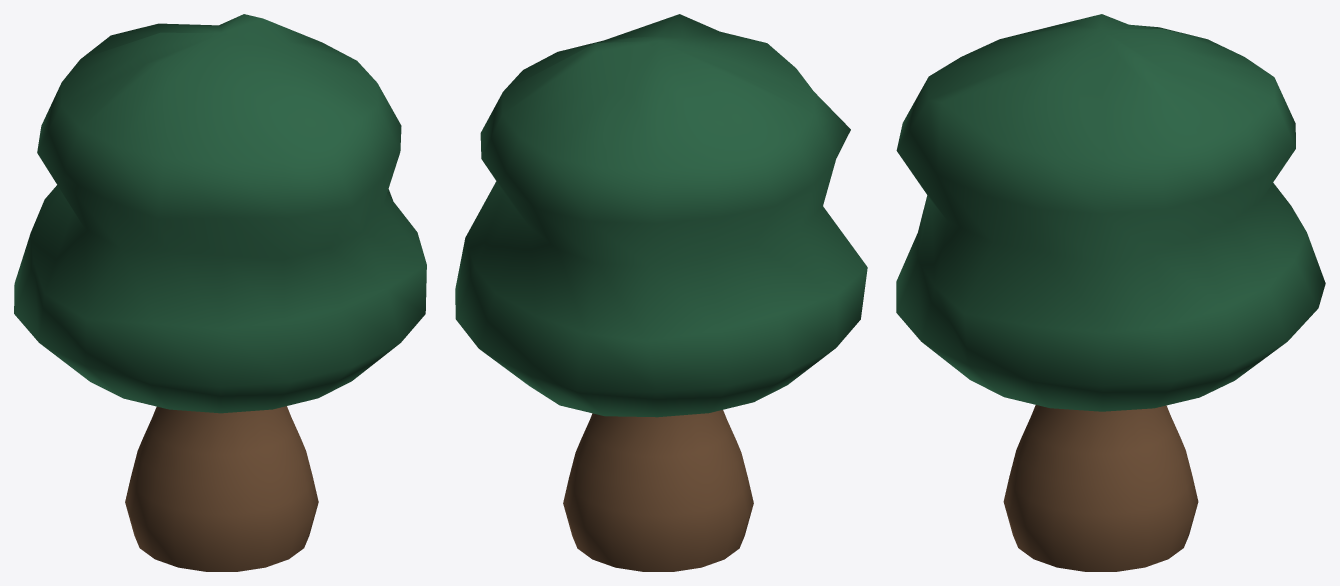
File: Tree1.fbx
3 renders of one model, left to right at view 1: azimuth 30°, elevation 25°; view 2: azimuth 150°, elevation 25°; view 3: azimuth 270°, elevation 25°, orthographic. The views are drawn at different scales.
Parts seen in each view (by area): view 1: Tree1; view 2: Tree1; view 3: Tree1.
Part boxes in pixels (<box>): Tree1: <box>14,14,426,571</box>; Tree1: <box>455,14,867,571</box>; Tree1: <box>896,14,1325,571</box>.
Bounding box in the file's own units: 540 × 716 × 552.
